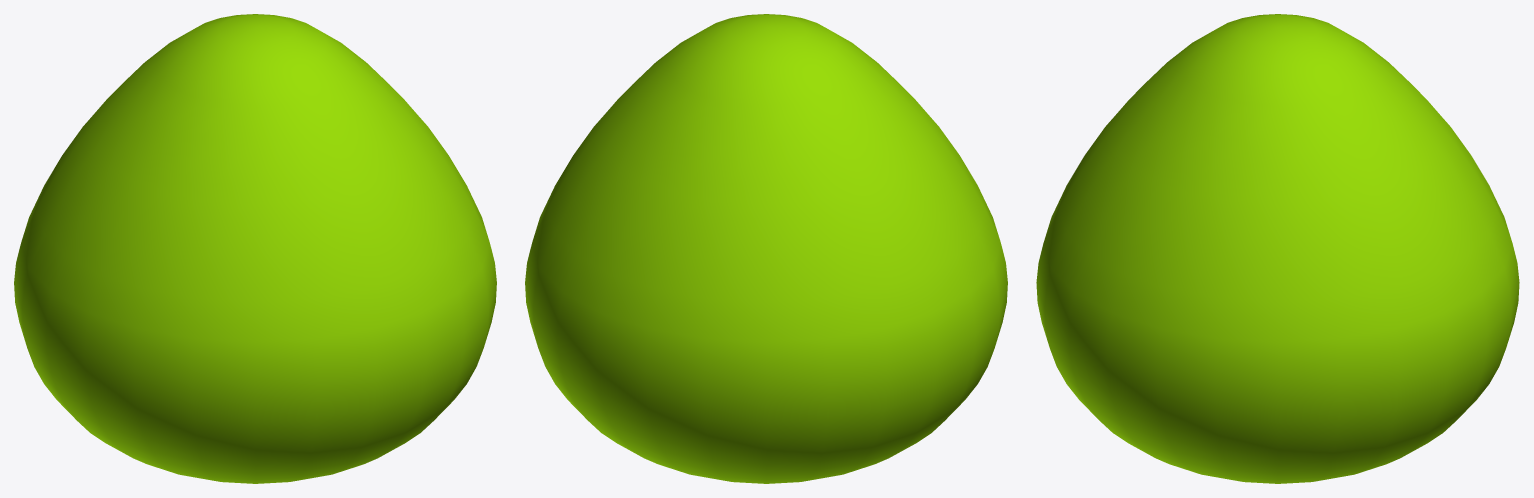
The model's file is HPE300cm.glb.
3 renders of one model, left to right at view 1: azimuth 30°, elevation 25°; view 2: azimuth 150°, elevation 25°; view 3: azimuth 270°, elevation 25°, orthographic.
Parts seen in each view (by area): view 1: HPE300cm; view 2: HPE300cm; view 3: HPE300cm.
Part boxes in pixels (bbox=[...]): HPE300cm: bbox=[14, 14, 496, 483]; HPE300cm: bbox=[525, 14, 1007, 483]; HPE300cm: bbox=[1036, 14, 1519, 483].
Size of the model in its own units: 3 by 3 by 3.
